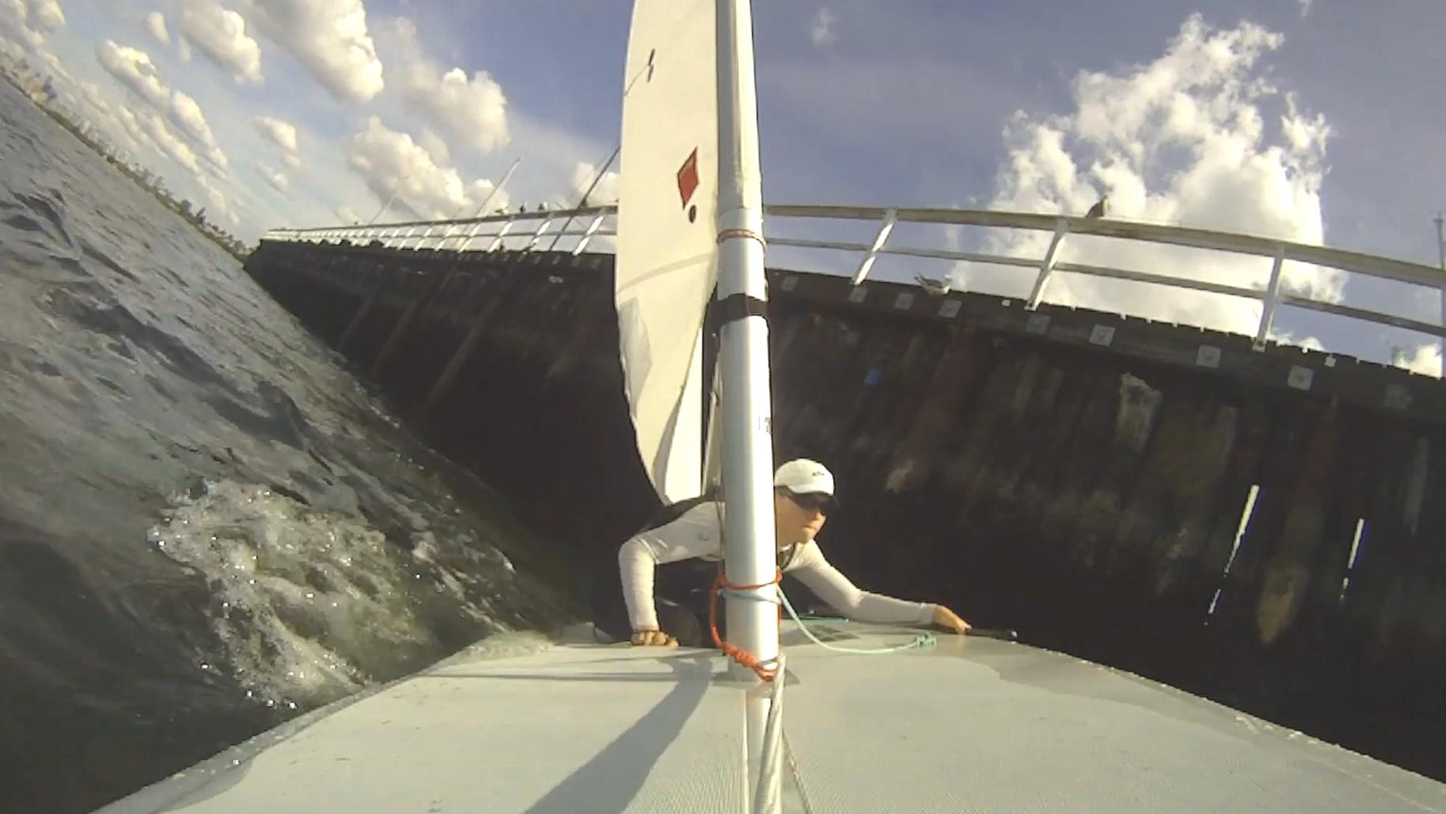boat: (95, 0, 1446, 814)
land: (768, 273, 1446, 754), (244, 242, 661, 639)
person: (93, 621, 1446, 814), (619, 459, 971, 646)
sea: (0, 54, 580, 814)
sky: (752, 0, 1446, 377), (0, 0, 636, 254)
